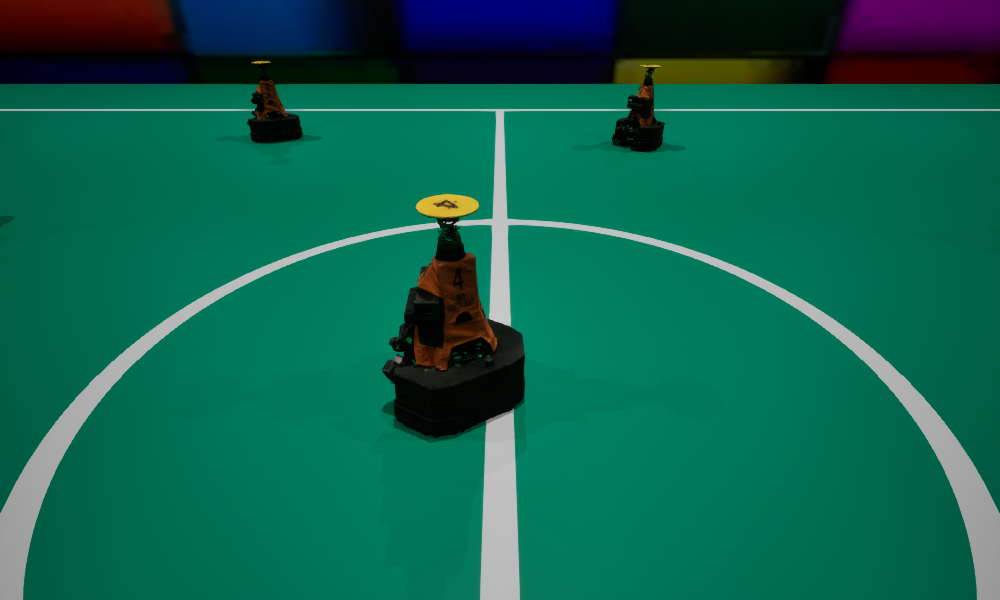o: (382, 194, 524, 437), (247, 61, 302, 142), (612, 65, 664, 150)
